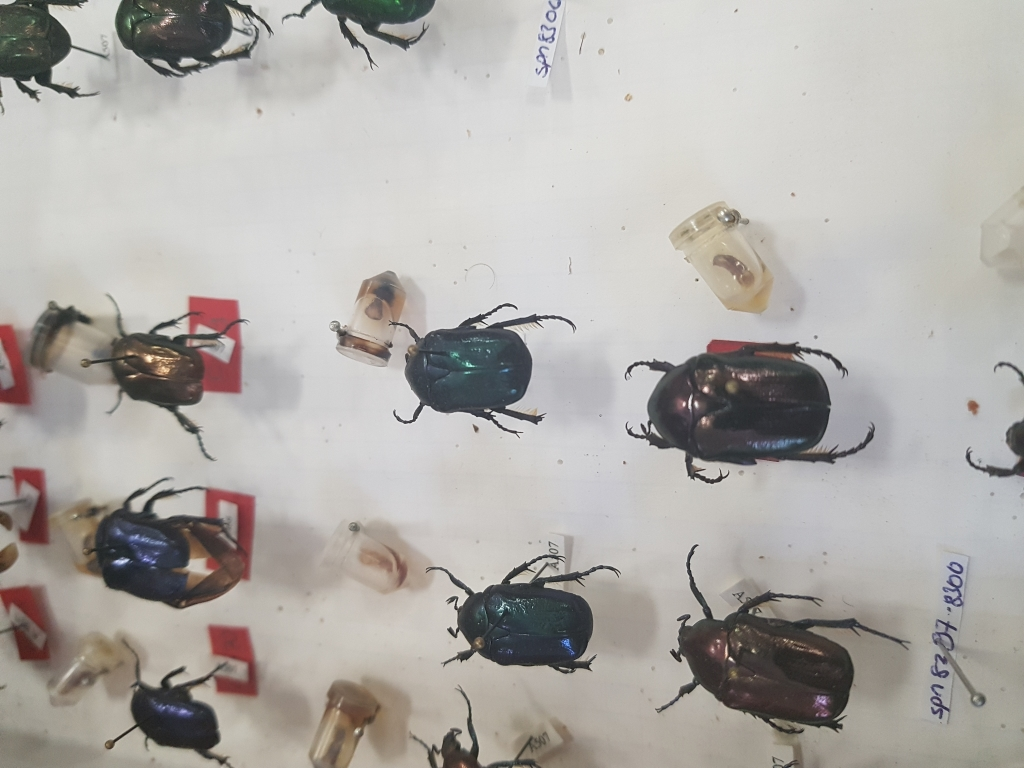Protaetia_besucheti: (638, 530, 893, 748), (595, 325, 880, 515), (373, 305, 592, 458)
